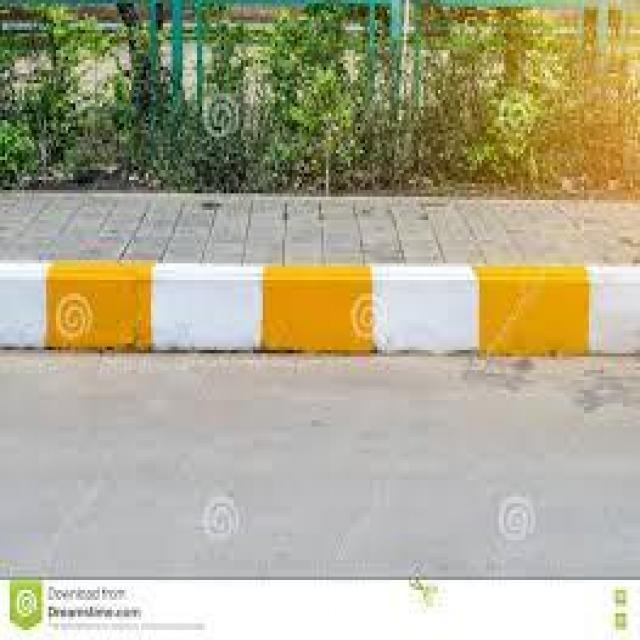bump: (3, 238, 640, 390)
